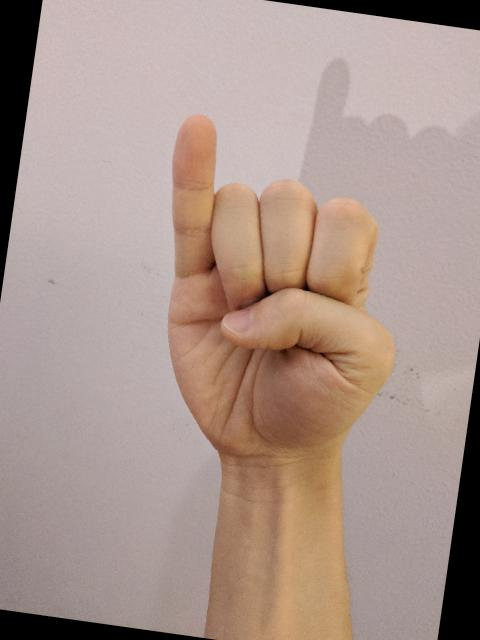I: (125, 105, 434, 490)
